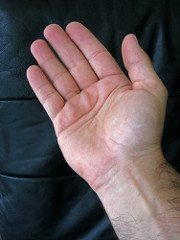palm: (64, 82, 144, 170)
